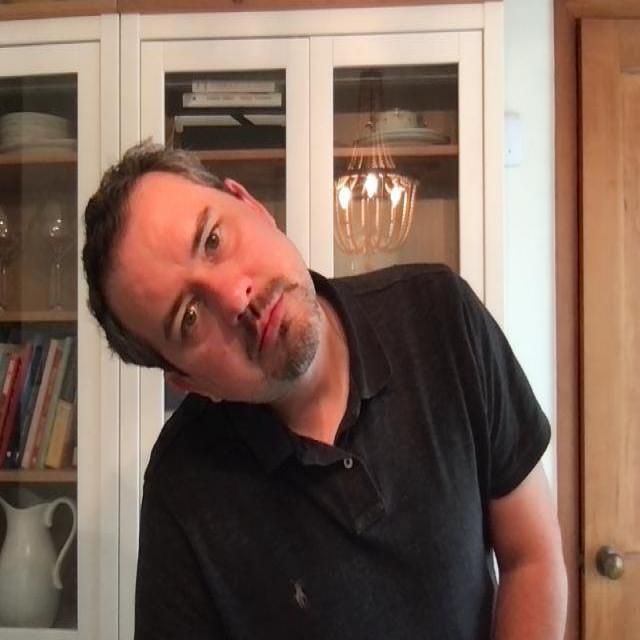face: (78, 141, 323, 404)
